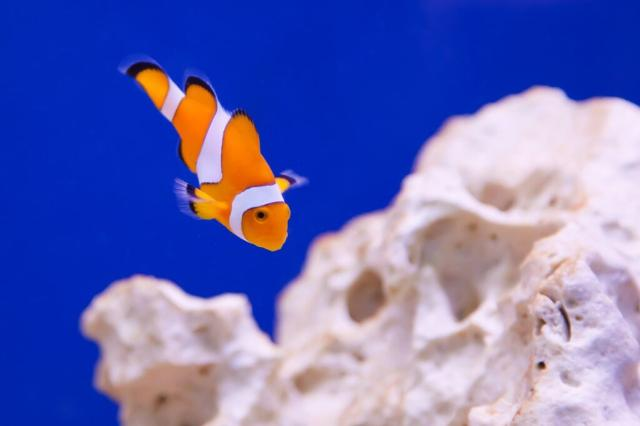Mulut: (248, 226, 294, 264)
Sirip Dada: (165, 172, 232, 234), (271, 162, 319, 206)
Sirip Ekor: (96, 45, 176, 123)
Sirip Punggung: (178, 66, 272, 160)
